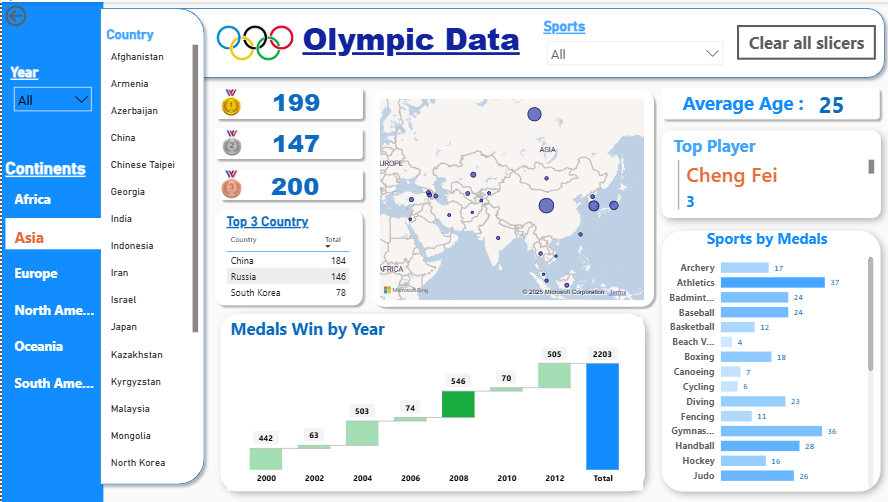

What the dashboard file says about the page in this screenshot:
{"tool":"powerbi","page":{"name":"Home","canvas":[1280,720],"ordinal":0},"visuals":[{"type":"shape","box":[307,233,220,59],"z":1000},{"type":"shape","box":[300,174,227,59],"z":1500},{"type":"shape","box":[300,292.3,226.9,151.5],"z":2000},{"type":"shape","box":[0,0,1280,118.1],"z":3000},{"type":"shape","box":[0,0,146.1,720.6],"z":4000},{"type":"shape","box":[132.7,0,168,703.8],"z":5000},{"type":"advancedSlicerVisual","title":"Country","fields":{"Values":["Sheet1.Country"]},"box":[146.1,35.3,142.8,650.1],"z":6000},{"type":"shape","box":[300,433.8,641.5,286.2],"z":7000},{"type":"shape","box":[934.6,313.9,345.6,406.1],"z":8000},{"type":"shape","box":[526.5,120.5,416.9,322.9],"z":9000},{"type":"clusteredBarChart","title":"Sports by Medals","fields":{"Category":["Sheet1.Sport"],"Y":["Sheet1.Total Medals"]},"box":[943.2,325.4,316.8,378.7],"z":11000},{"type":"image","box":[301,24.5,126.7,69.1],"z":12000},{"type":"shape","box":[301,117,226,59],"z":13000},{"type":"advancedSlicerVisual","fields":{"Values":["Sheet1.Continents"]},"box":[0,226.8,157.9,351.1],"z":14000},{"type":"tableEx","title":"Top 3 Country","fields":{"Values":["Sheet1.Country","Sheet1.Total Medals"]},"box":[317.7,303.8,193.8,130],"z":15000},{"type":"actionButton","box":[1058.8,33.8,200,50],"z":16000},{"type":"image","box":[306.9,120.8,46.9,48.5],"z":17000},{"type":"card","fields":{"Values":["Sheet1.Gold Medals"]},"box":[347,115,153,56],"z":20000},{"type":"card","fields":{"Values":["Sheet1.Silver Medals"]},"box":[346.9,173.8,152.3,56.2],"z":21000},{"type":"card","fields":{"Values":["Sheet1.Bronze Medals"]},"box":[351.4,235.7,141.4,57.1],"z":22000},{"type":"map","fields":{"Size":["Sheet1.Total Medals"],"Category":["Sheet1.Country"],"Series":["Sheet1.Continents"]},"box":[539.8,134.9,389.2,298.8],"z":23000},{"type":"textbox","box":[427.7,17.3,331.2,83.5],"z":24000},{"type":"actionButton","box":[0,0,100,40],"z":25000},{"type":"shape","box":[943.4,116.9,327.7,59],"z":26000},{"type":"card","fields":{"Values":["Sheet1.Age"]},"box":[1158.6,120,71.4,55.7],"z":27000},{"type":"textbox","box":[962.9,121.4,195.7,60],"z":28000},{"type":"shape","box":[934,169.7,346,156.2],"z":29000},{"type":"multiRowCard","title":"Top Player","fields":{"Values":["Sheet1.Athlete","Sheet1.Total Medals"]},"box":[961.9,190.1,299.5,113.8],"z":30000},{"type":"slicer","title":"Sports","fields":{"Values":["Sheet1.Sport"]},"box":[774.7,23,273.6,69.1],"z":31000},{"type":"waterfallChart","title":"Medals Win by Year","fields":{"Category":["Sheet1.Year"],"Y":["Sheet1.Total Medals"]},"box":[324.3,454.3,598.6,250],"z":32000},{"type":"slicer","title":"Year","fields":{"Values":["Sheet1.Year"]},"box":[7.2,89.3,132.5,69.1],"z":33000},{"type":"image","box":[310,236.9,40.8,50],"z":37500},{"type":"image","box":[306,180,48,47],"z":38000}]}

Visuals, with their boxes on the page's 1280x720 design canvas (x1, y1, x2, y2). These are canvas units, not pixel positions in the 888x502 screenshot, which may show the page scaled, cropped or inside an application window:
shape: 307, 233, 527, 292
shape: 300, 174, 527, 233
shape: 300, 292, 527, 444
shape: 0, 0, 1280, 118
shape: 0, 0, 146, 721
shape: 133, 0, 301, 704
"Country" advancedSlicerVisual: 146, 35, 289, 685
shape: 300, 434, 942, 720
shape: 935, 314, 1280, 720
shape: 526, 120, 943, 443
"Sports by Medals" clusteredBarChart: 943, 325, 1260, 704
image: 301, 24, 428, 94
shape: 301, 117, 527, 176
advancedSlicerVisual - Sheet1.Continents: 0, 227, 158, 578
"Top 3 Country" tableEx: 318, 304, 512, 434
actionButton: 1059, 34, 1259, 84
image: 307, 121, 354, 169
card - Sheet1.Gold Medals: 347, 115, 500, 171
card - Sheet1.Silver Medals: 347, 174, 499, 230
card - Sheet1.Bronze Medals: 351, 236, 493, 293
map - Sheet1.Total Medals x Sheet1.Country: 540, 135, 929, 434
textbox: 428, 17, 759, 101
actionButton: 0, 0, 100, 40
shape: 943, 117, 1271, 176
card - Sheet1.Age: 1159, 120, 1230, 176
textbox: 963, 121, 1159, 181
shape: 934, 170, 1280, 326
"Top Player" multiRowCard: 962, 190, 1261, 304
"Sports" slicer: 775, 23, 1048, 92
"Medals Win by Year" waterfallChart: 324, 454, 923, 704
"Year" slicer: 7, 89, 140, 158
image: 310, 237, 351, 287
image: 306, 180, 354, 227
